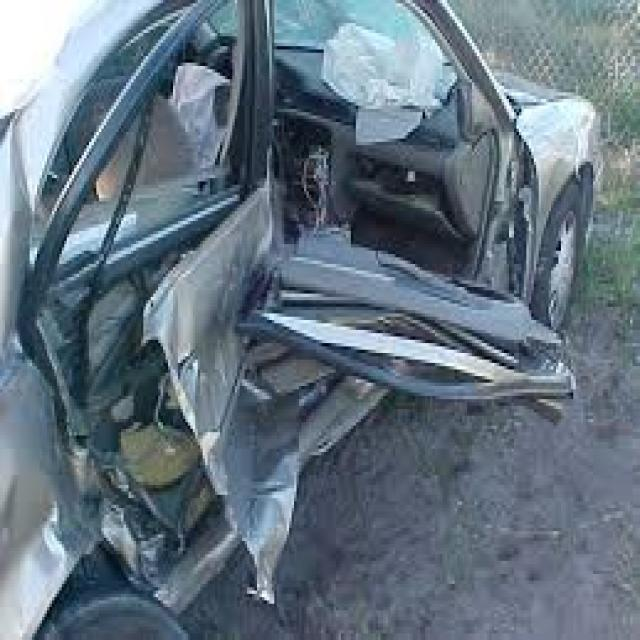severe: (3, 0, 583, 582)
